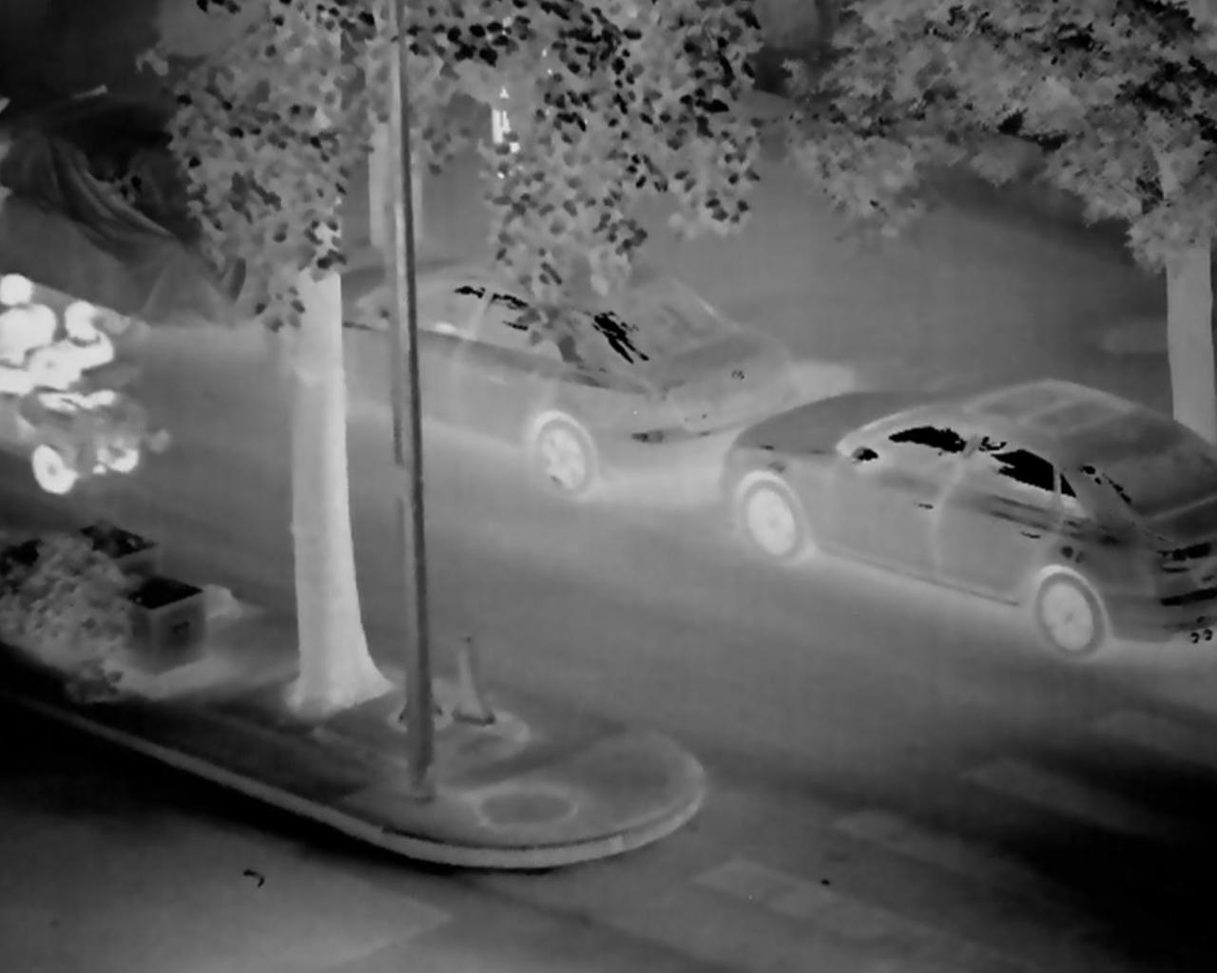person: (29, 303, 132, 420)
